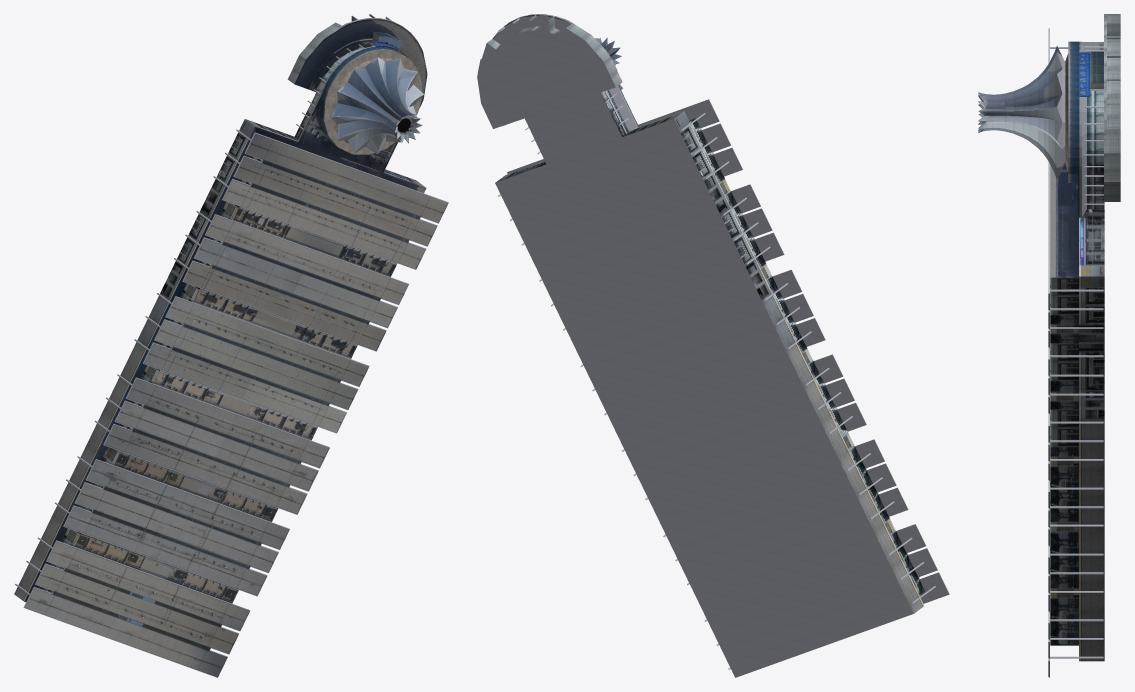
Rendered from scene-opt.glb.
3 renders of one model, left to right at view 1: azimuth 30°, elevation 25°; view 2: azimuth 150°, elevation 25°; view 3: azimuth 270°, elevation 25°, orthographic. The views are drawn at different scales.
Visible parts, largest first — view 1: Asset3DLoader.sceneRoot_primitive8, Asset3DLoader.sceneRoot_primitive0, Asset3DLoader.sceneRoot_primitive2, Asset3DLoader.sceneRoot_primitive3, Asset3DLoader.sceneRoot_primitive4, Asset3DLoader.sceneRoot_primitive7, Asset3DLoader.sceneRoot_primitive1; view 2: Asset3DLoader.sceneRoot_primitive2, Asset3DLoader.sceneRoot_primitive0, Asset3DLoader.sceneRoot_primitive3, Asset3DLoader.sceneRoot_primitive1; view 3: Asset3DLoader.sceneRoot_primitive0, Asset3DLoader.sceneRoot_primitive2, Asset3DLoader.sceneRoot_primitive3, Asset3DLoader.sceneRoot_primitive8, Asset3DLoader.sceneRoot_primitive1, Asset3DLoader.sceneRoot_primitive7, Asset3DLoader.sceneRoot_primitive6, Asset3DLoader.sceneRoot_primitive5, Asset3DLoader.sceneRoot_primitive4.
Boxes of the visible parts, x1,y1,x2,y2 form: Asset3DLoader.sceneRoot_primitive8: (25,18,448,677); Asset3DLoader.sceneRoot_primitive0: (24,32,426,602); Asset3DLoader.sceneRoot_primitive2: (15,23,448,677); Asset3DLoader.sceneRoot_primitive3: (14,342,146,601); Asset3DLoader.sceneRoot_primitive4: (324,49,421,154); Asset3DLoader.sceneRoot_primitive7: (297,46,406,146); Asset3DLoader.sceneRoot_primitive1: (288,14,401,83); Asset3DLoader.sceneRoot_primitive2: (477,15,949,677); Asset3DLoader.sceneRoot_primitive0: (495,111,925,595); Asset3DLoader.sceneRoot_primitive3: (786,343,924,613); Asset3DLoader.sceneRoot_primitive1: (480,14,622,86); Asset3DLoader.sceneRoot_primitive0: (1050,42,1104,645); Asset3DLoader.sceneRoot_primitive2: (1048,27,1104,677); Asset3DLoader.sceneRoot_primitive3: (1079,419,1104,661); Asset3DLoader.sceneRoot_primitive8: (978,46,1062,179); Asset3DLoader.sceneRoot_primitive1: (1090,14,1120,201); Asset3DLoader.sceneRoot_primitive7: (1068,41,1081,217); Asset3DLoader.sceneRoot_primitive6: (1087,54,1103,164); Asset3DLoader.sceneRoot_primitive5: (1087,164,1104,209); Asset3DLoader.sceneRoot_primitive4: (1065,54,1068,171).
Size of the model in its own units: 338 by 457 by 78.
9 materials, 9 textured.
